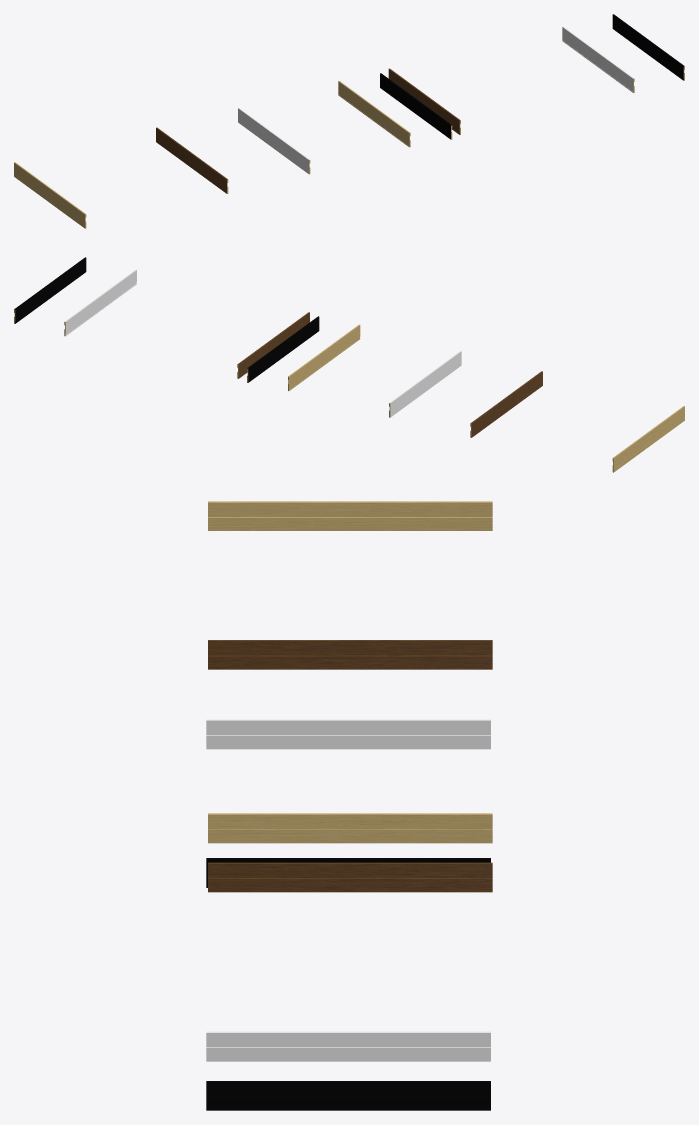
The model's file is quadro.glb.
The picture shows the model from 3 angles, top to bottom: view 1: azimuth 30°, elevation 25°; view 2: azimuth 150°, elevation 25°; view 3: azimuth 270°, elevation 25°; orthographic projection. The views are drawn at different scales.
Visible parts, largest first — view 1: rodape-friso-tabaco.003, rodape-friso-carvalho, rodape-friso-tabaco.001, rodape-friso-tabaco.002, rodape-friso-carvalho.001, rodape-friso-tabaco.004, rodape-friso-tabaco.005, rodape-friso-tabaco; view 2: rodape-friso-tabaco.005, rodape-friso-carvalho, rodape-friso-carvalho.001, rodape-friso-tabaco.003, rodape-friso-tabaco.004, rodape-friso-tabaco.001, rodape-friso-tabaco.002, rodape-friso-tabaco; view 3: rodape-friso-carvalho, rodape-friso-tabaco, rodape-friso-carvalho.001, rodape-friso-tabaco.005, rodape-friso-tabaco.001, rodape-friso-tabaco.002, rodape-friso-tabaco.003, rodape-friso-tabaco.004.
Boxes of the visible parts, x1=… form: rodape-friso-tabaco.003: x1=612, y1=14, x2=684, y2=80; rodape-friso-carvalho: x1=338, y1=81, x2=410, y2=147; rodape-friso-tabaco.001: x1=156, y1=127, x2=228, y2=193; rodape-friso-tabaco.002: x1=14, y1=162, x2=86, y2=228; rodape-friso-carvalho.001: x1=562, y1=26, x2=634, y2=92; rodape-friso-tabaco.004: x1=380, y1=73, x2=452, y2=139; rodape-friso-tabaco.005: x1=238, y1=108, x2=310, y2=174; rodape-friso-tabaco: x1=388, y1=68, x2=460, y2=134; rodape-friso-tabaco.005: x1=389, y1=351, x2=461, y2=417; rodape-friso-carvalho: x1=288, y1=324, x2=360, y2=390; rodape-friso-carvalho.001: x1=64, y1=269, x2=136, y2=336; rodape-friso-tabaco.003: x1=14, y1=257, x2=86, y2=323; rodape-friso-tabaco.004: x1=247, y1=316, x2=319, y2=382; rodape-friso-tabaco.001: x1=470, y1=371, x2=542, y2=437; rodape-friso-tabaco.002: x1=612, y1=406, x2=684, y2=472; rodape-friso-tabaco: x1=237, y1=312, x2=309, y2=378; rodape-friso-carvalho: x1=208, y1=813, x2=492, y2=843; rodape-friso-tabaco: x1=208, y1=862, x2=492, y2=892; rodape-friso-carvalho.001: x1=206, y1=1031, x2=490, y2=1061; rodape-friso-tabaco.005: x1=206, y1=719, x2=490, y2=749; rodape-friso-tabaco.001: x1=208, y1=640, x2=492, y2=669; rodape-friso-tabaco.002: x1=208, y1=501, x2=492, y2=530; rodape-friso-tabaco.003: x1=206, y1=1081, x2=490, y2=1110; rodape-friso-tabaco.004: x1=206, y1=858, x2=490, y2=887.
Size of the model in its own units: 4.38 by 0.1152 by 0.9049.
Materials: 6 (4 with a texture image).
